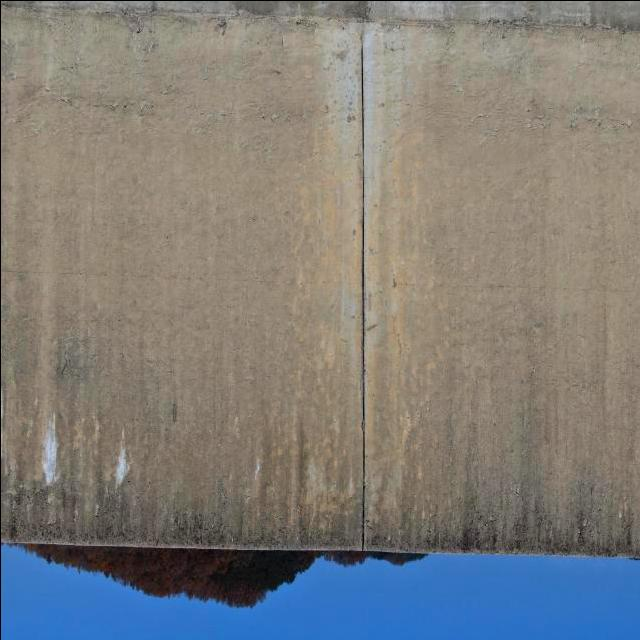SurfaceCrack: (315, 18, 408, 547)
